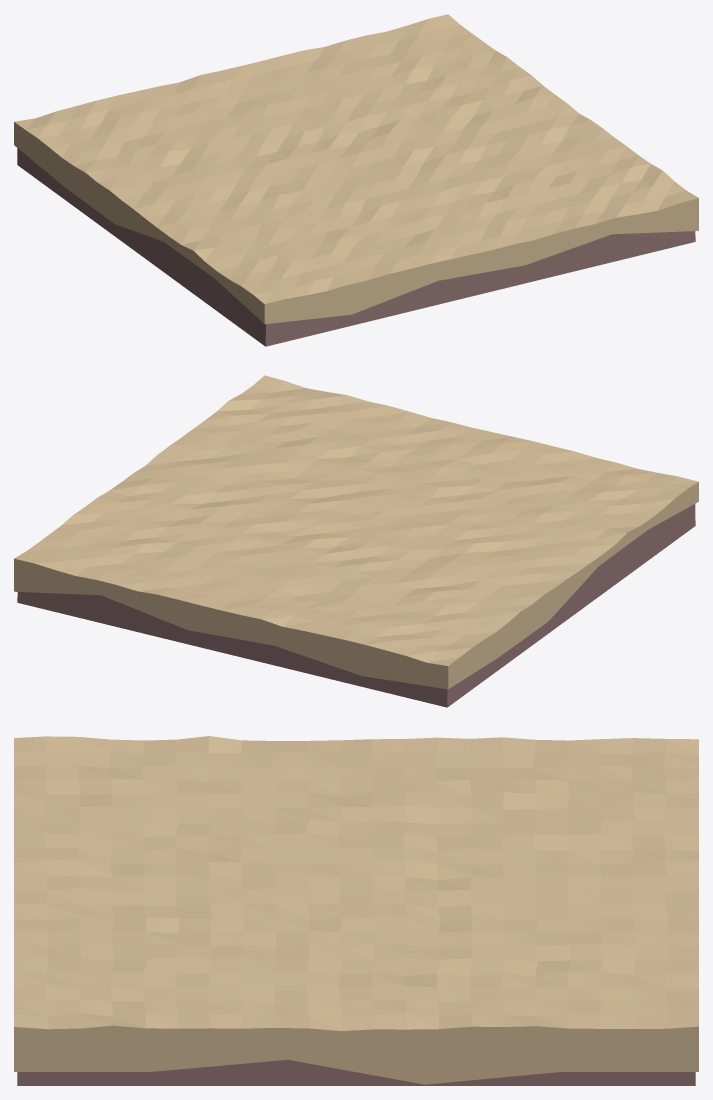
The picture shows the model from 3 angles, top to bottom: view 1: azimuth 30°, elevation 25°; view 2: azimuth 150°, elevation 25°; view 3: azimuth 270°, elevation 25°; orthographic projection. The views are drawn at different scales.
Visible parts, largest first — view 1: Base; view 2: Base; view 3: Base.
Part boxes in pixels (box(x1,y1,x2,y2)): Base: box(14, 14, 698, 346); Base: box(14, 375, 698, 707); Base: box(14, 736, 698, 1085).
Size of the model in its own units: 10000 by 998 by 10000.
